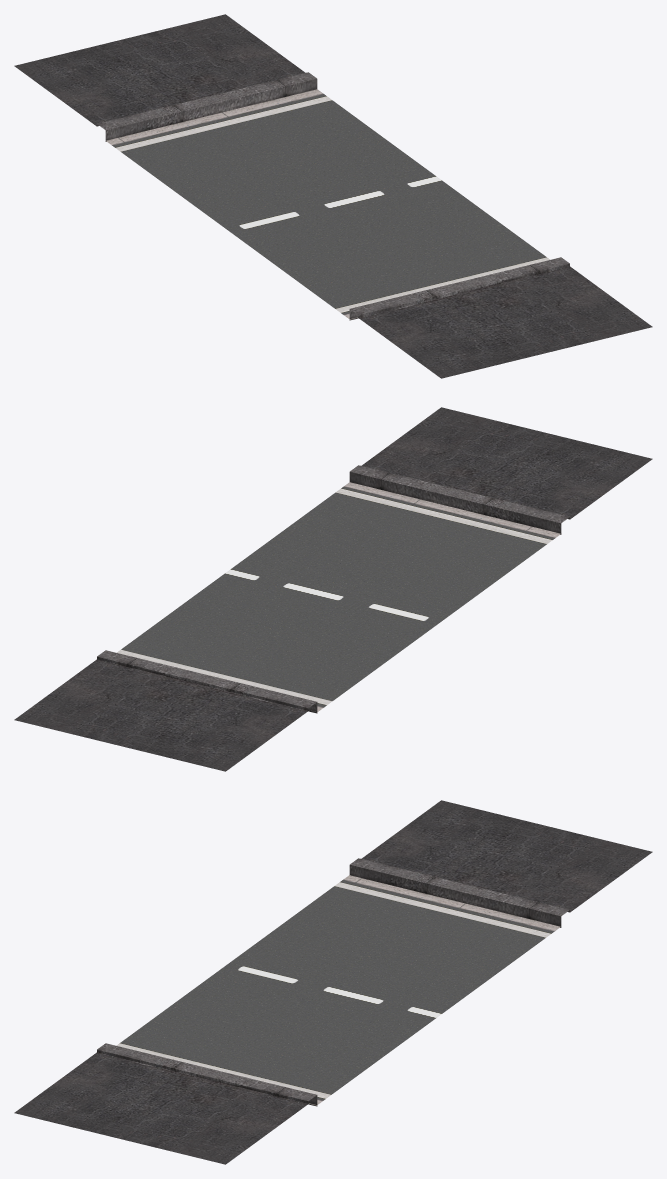
The model's file is 2 lines (half)_mobile.FBX.
3 renders of one model, top to bottom at view 1: azimuth 30°, elevation 25°; view 2: azimuth 150°, elevation 25°; view 3: azimuth 330°, elevation 25°, orthographic.
Visible parts, largest first — view 1: Plane238; view 2: Plane238; view 3: Plane238.
Part boxes in pixels (x1,y1,x2,y2): Plane238: [14, 14, 652, 378]; Plane238: [14, 407, 652, 771]; Plane238: [14, 800, 652, 1164].
Size of the model in its own units: 6 by 0.3184 by 20.97.
